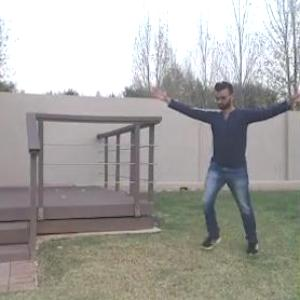takeoff: (146, 80, 299, 251)
